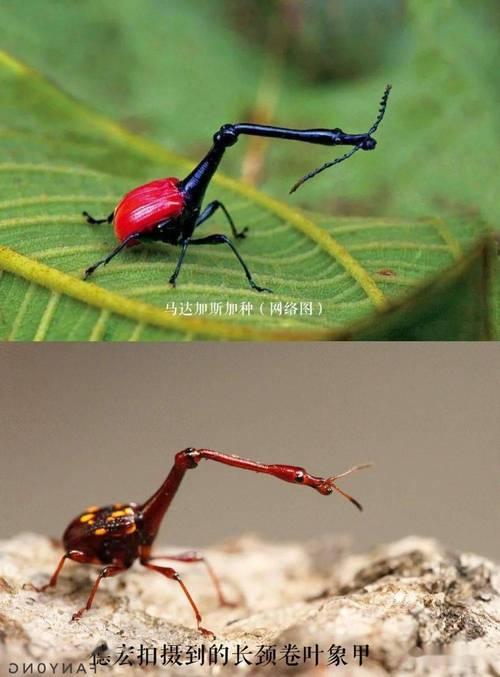Curculionidae: (21, 447, 375, 641), (79, 81, 394, 294)
